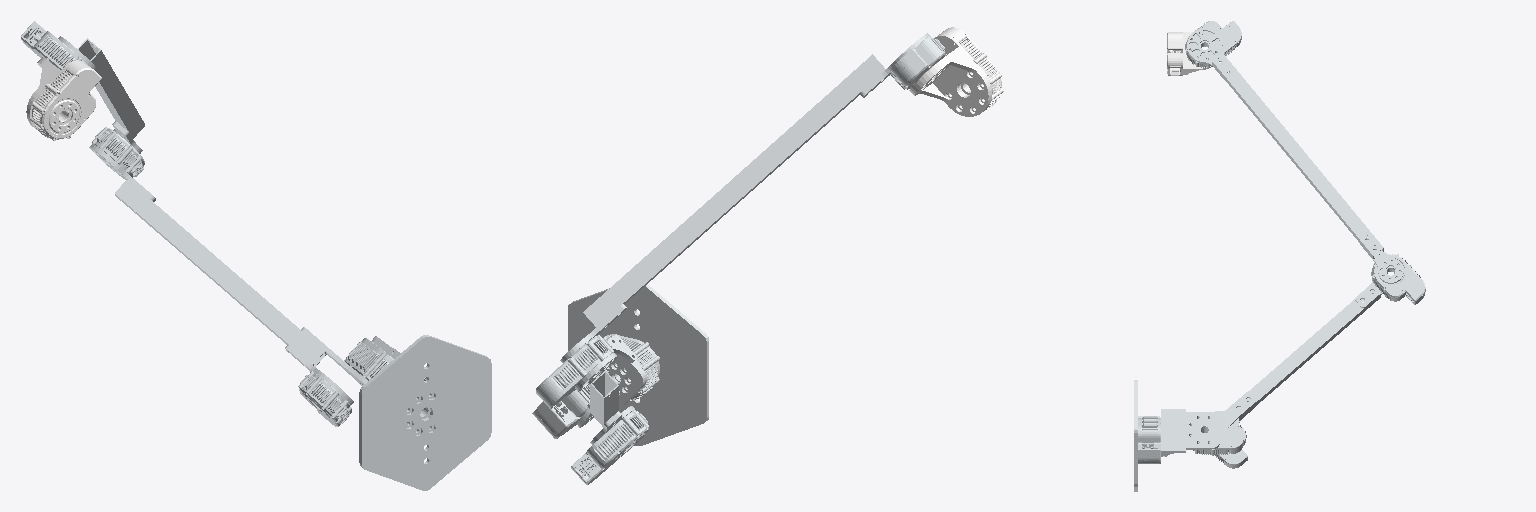
URDF robot description (console.log):
<?xml version="1.0" encoding="utf-8"?>
<!-- This URDF was automatically created by SolidWorks to URDF Exporter! Originally created by [author] ([email redacted]) 
     Commit Version: 1.6.0-4-g7f85cfe  Build Version: 1.6.7995.38578
     For more information, please see http://wiki.ros.org/sw_urdf_exporter -->
<robot
  name="console.log">
  <link
    name="base_link">
    <inertial>
      <origin
        xyz="0.0042869 0.010394 -0.00046682"
        rpy="0 0 0" />
      <mass
        value="0.80794" />
      <inertia
        ixx="0.0017182"
        ixy="3.2535E-07"
        ixz="6.6866E-06"
        iyy="0.0034685"
        iyz="8.0182E-08"
        izz="0.0017776" />
    </inertial>
    <visual>
      <origin
        xyz="0 0 0"
        rpy="0 0 0" />
      <geometry>
        <mesh
          filename="package://console.log/meshes/base_link.STL" />
      </geometry>
      <material
        name="">
        <color
          rgba="0.89804 0.91765 0.92941 1" />
      </material>
    </visual>
    <collision>
      <origin
        xyz="0 0 0"
        rpy="0 0 0" />
      <geometry>
        <mesh
          filename="package://console.log/meshes/base_link.STL" />
      </geometry>
    </collision>
  </link>
  <link
    name="link_1">
    <inertial>
      <origin
        xyz="-0.013799 -0.061274 0.01066"
        rpy="0 0 0" />
      <mass
        value="0.5361" />
      <inertia
        ixx="0.00040448"
        ixy="-6.1248E-06"
        ixz="-6.4913E-05"
        iyy="0.00025426"
        iyz="-3.5893E-06"
        izz="0.00038142" />
    </inertial>
    <visual>
      <origin
        xyz="0 0 0"
        rpy="0 0 0" />
      <geometry>
        <mesh
          filename="package://console.log/meshes/link_1.STL" />
      </geometry>
      <material
        name="">
        <color
          rgba="0.89804 0.91765 0.92941 1" />
      </material>
    </visual>
    <collision>
      <origin
        xyz="0 0 0"
        rpy="0 0 0" />
      <geometry>
        <mesh
          filename="package://console.log/meshes/link_1.STL" />
      </geometry>
    </collision>
  </link>
  <joint
    name="joint_1"
    type="revolute">
    <origin
      xyz="0 0.050345 0"
      rpy="0 0 3.1416" />
    <parent
      link="base_link" />
    <child
      link="link_1" />
    <axis
      xyz="0 -1 0" />
    <limit
      lower="0"
      upper="0"
      effort="0"
      velocity="0" />
  </joint>
  <link
    name="link_2">
    <inertial>
      <origin
        xyz="0.1032 -0.16559 0.09529"
        rpy="0 0 0" />
      <mass
        value="0.66905" />
      <inertia
        ixx="0.0016696"
        ixy="0.00051422"
        ixz="-0.00045264"
        iyy="0.00096207"
        iyz="0.00061299"
        izz="0.0015097" />
    </inertial>
    <visual>
      <origin
        xyz="0 0 0"
        rpy="0 0 0" />
      <geometry>
        <mesh
          filename="package://console.log/meshes/link_2.STL" />
      </geometry>
      <material
        name="">
        <color
          rgba="0.89804 0.91765 0.92941 1" />
      </material>
    </visual>
    <collision>
      <origin
        xyz="0 0 0"
        rpy="0 0 0" />
      <geometry>
        <mesh
          filename="package://console.log/meshes/link_2.STL" />
      </geometry>
    </collision>
  </link>
  <joint
    name="joint_2"
    type="revolute">
    <origin
      xyz="0.010361 -0.08053 -0.0086937"
      rpy="0 0 0" />
    <parent
      link="link_1" />
    <child
      link="link_2" />
    <axis
      xyz="0.76604 0 -0.64279" />
    <limit
      lower="0"
      upper="0"
      effort="0"
      velocity="0" />
  </joint>
  <link
    name="link_3">
    <inertial>
      <origin
        xyz="0.0035901 0.23169 -0.29857"
        rpy="0 0 0" />
      <mass
        value="0.44826" />
      <inertia
        ixx="0.0039577"
        ixy="-8.6178E-08"
        ixz="2.55E-08"
        iyy="0.0024082"
        iyz="0.0018186"
        izz="0.0015941" />
    </inertial>
    <visual>
      <origin
        xyz="0 0 0"
        rpy="0 0 0" />
      <geometry>
        <mesh
          filename="package://console.log/meshes/link_3.STL" />
      </geometry>
      <material
        name="">
        <color
          rgba="0.89804 0.91765 0.92941 1" />
      </material>
    </visual>
    <collision>
      <origin
        xyz="0 0 0"
        rpy="0 0 0" />
      <geometry>
        <mesh
          filename="package://console.log/meshes/link_3.STL" />
      </geometry>
    </collision>
  </link>
  <joint
    name="joint_3"
    type="revolute">
    <origin
      xyz="0.1768 -0.3469 0.259"
      rpy="-3.1416 -0.69813 3.1416" />
    <parent
      link="link_2" />
    <child
      link="link_3" />
    <axis
      xyz="1 0 0" />
    <limit
      lower="0"
      upper="0"
      effort="0"
      velocity="0" />
  </joint>
  <link
    name="link_4">
    <inertial>
      <origin
        xyz="0.020972 0.044147 -0.016056"
        rpy="0 0 0" />
      <mass
        value="0.23962" />
      <inertia
        ixx="0.00013632"
        ixy="-1.3355E-05"
        ixz="1.6582E-05"
        iyy="0.00020691"
        iyz="1.111E-05"
        izz="0.00013288" />
    </inertial>
    <visual>
      <origin
        xyz="0 0 0"
        rpy="0 0 0" />
      <geometry>
        <mesh
          filename="package://console.log/meshes/link_4.STL" />
      </geometry>
      <material
        name="">
        <color
          rgba="1 1 1 0.32" />
      </material>
    </visual>
    <collision>
      <origin
        xyz="0 0 0"
        rpy="0 0 0" />
      <geometry>
        <mesh
          filename="package://console.log/meshes/link_4.STL" />
      </geometry>
    </collision>
  </link>
  <joint
    name="joint_4"
    type="revolute">
    <origin
      xyz="-0.031045 0.34673 -0.43413"
      rpy="-3.1416 0.69813 3.1416" />
    <parent
      link="link_3" />
    <child
      link="link_4" />
    <axis
      xyz="-0.76604 0 0.64279" />
    <limit
      lower="0"
      upper="0"
      effort="0"
      velocity="0" />
  </joint>
</robot>

--- Render facts (derived) ---
Views: 3 orthographic renders of the robot side by side, from view 1: azimuth 30°, elevation 25°; view 2: azimuth 150°, elevation 25°; view 3: azimuth 270°, elevation 25°.
Robot: console.log — 5 links, 4 joints (4 revolute); root link base_link; default pose: all joints at 0.
Links seen in each view (by area): view 1: base_link, link_2, link_4, link_3, link_1; view 2: base_link, link_3, link_2, link_4, link_1; view 3: link_3, link_2, link_1, base_link, link_4.
Link boxes in pixels (left/top/right/bottom): base_link: left=359, top=335, right=491, bottom=490; link_2: left=89, top=127, right=367, bottom=426; link_4: left=26, top=57, right=101, bottom=140; link_3: left=21, top=21, right=144, bottom=153; link_1: left=344, top=336, right=400, bottom=380; base_link: left=568, top=284, right=708, bottom=445; link_3: left=560, top=33, right=946, bottom=362; link_2: left=536, top=335, right=648, bottom=484; link_4: left=909, top=27, right=1003, bottom=116; link_1: left=532, top=334, right=646, bottom=438; link_3: left=1185, top=21, right=1403, bottom=283; link_2: left=1203, top=253, right=1425, bottom=468; link_1: left=1161, top=409, right=1243, bottom=456; base_link: left=1134, top=380, right=1160, bottom=491; link_4: left=1167, top=32, right=1212, bottom=75.
Size in the robot's own frame: 0.6598 by 0.5421 by 0.7344 metres.
5 mesh visuals loaded from 5 distinct referenced files (5 binary STL).
